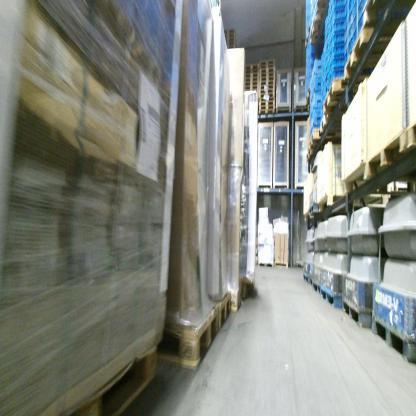pallets: (37, 343, 160, 415), (152, 287, 236, 367), (340, 120, 415, 196), (370, 316, 415, 365), (243, 57, 277, 115), (301, 270, 343, 309)
